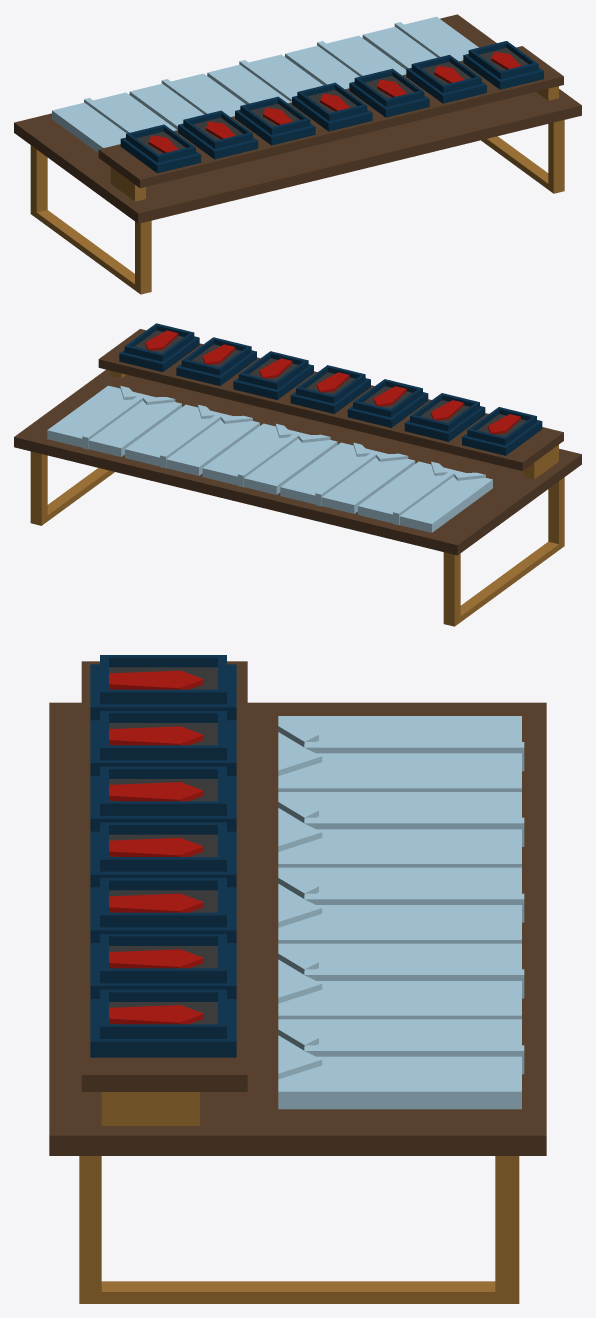
The model's file is stealth_table_B.fbx.
3 renders of one model, top to bottom at view 1: azimuth 30°, elevation 25°; view 2: azimuth 150°, elevation 25°; view 3: azimuth 270°, elevation 25°, orthographic. The views are drawn at different scales.
Parts seen in each view (by area): view 1: Table B, Cube.006, Cube.007; view 2: Table B, Cube.007, Cube.006; view 3: Cube.007, Table B, Cube.006.
Boxes of the visible parts, <box> form: Table B: <box>14,14,581,294</box>; Cube.006: <box>120,41,543,173</box>; Cube.007: <box>52,16,478,152</box>; Table B: <box>14,329,581,626</box>; Cube.007: <box>47,385,492,532</box>; Cube.006: <box>119,323,542,455</box>; Cube.007: <box>278,716,524,1109</box>; Table B: <box>49,661,546,1303</box>; Cube.006: <box>90,655,236,1057</box>.
Bounding box in the file's own units: 700 × 194 × 340.
